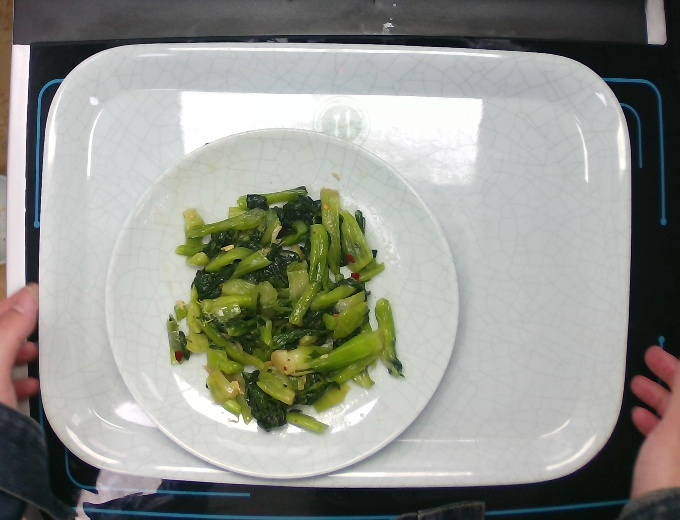JYsf-Da_Yuan_Pan: (100, 123, 464, 486)
